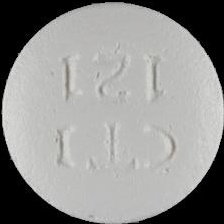42291-281: (0, 0, 224, 224)
